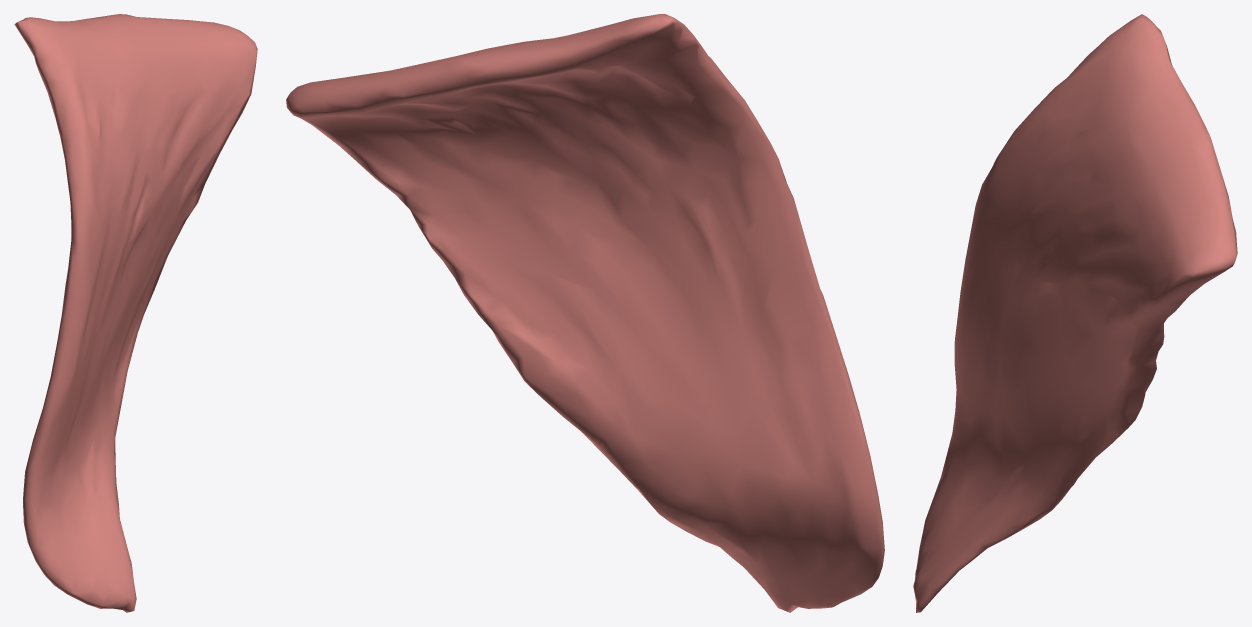
File: fma46807_mm1095.glb
3 renders of one model, left to right at view 1: azimuth 30°, elevation 25°; view 2: azimuth 150°, elevation 25°; view 3: azimuth 270°, elevation 25°, orthographic. The views are drawn at different scales.
Visible parts, largest first — view 1: FMA46807_MM1095; view 2: FMA46807_MM1095; view 3: FMA46807_MM1095.
Boxes of the visible parts, x1,y1,x2,y2 form: FMA46807_MM1095: (14, 14, 257, 612); FMA46807_MM1095: (286, 14, 884, 612); FMA46807_MM1095: (913, 14, 1237, 612).
Size of the model in its own units: 0.0191 by 0.0284 by 0.0141.
